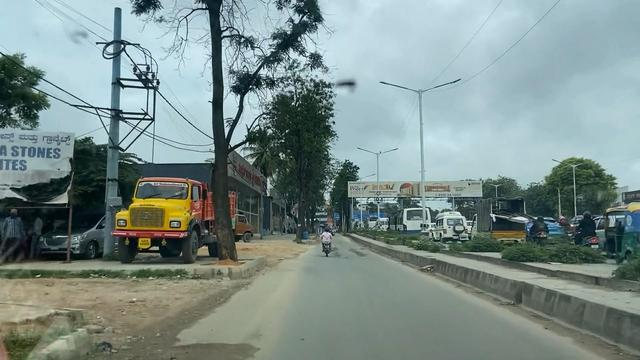RoadDamages: (173, 328, 263, 360)
